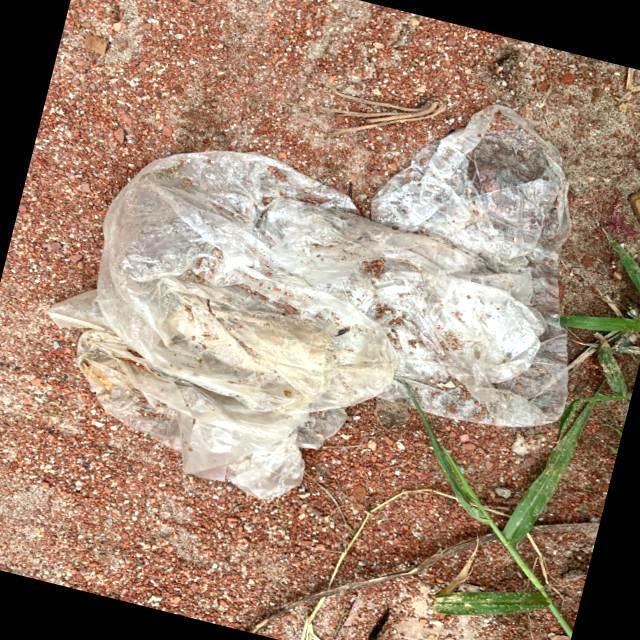polythene: (119, 154, 533, 459)
